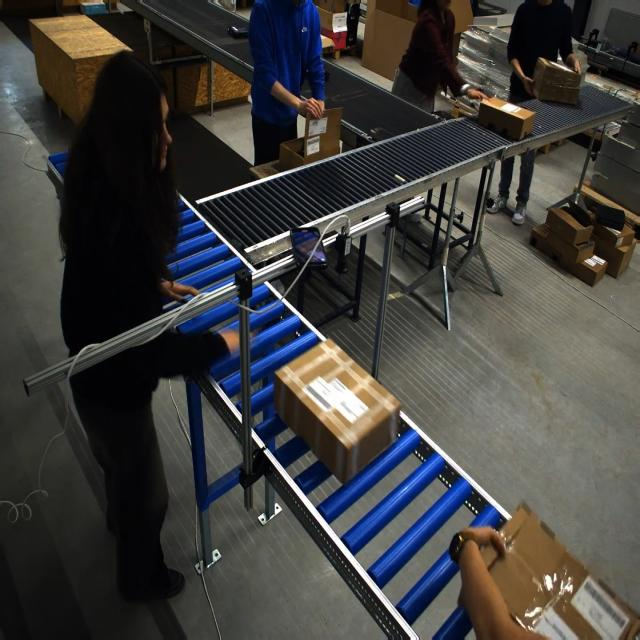box: (466, 494, 640, 636), (279, 335, 392, 465), (278, 107, 336, 172), (476, 95, 535, 144), (531, 56, 581, 105)
product: (227, 25, 249, 39)
